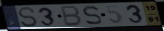3: (38, 6, 59, 27), (126, 4, 146, 25)
5: (105, 5, 125, 25)
B: (60, 5, 83, 27)
S: (81, 5, 104, 26), (17, 7, 39, 28)
